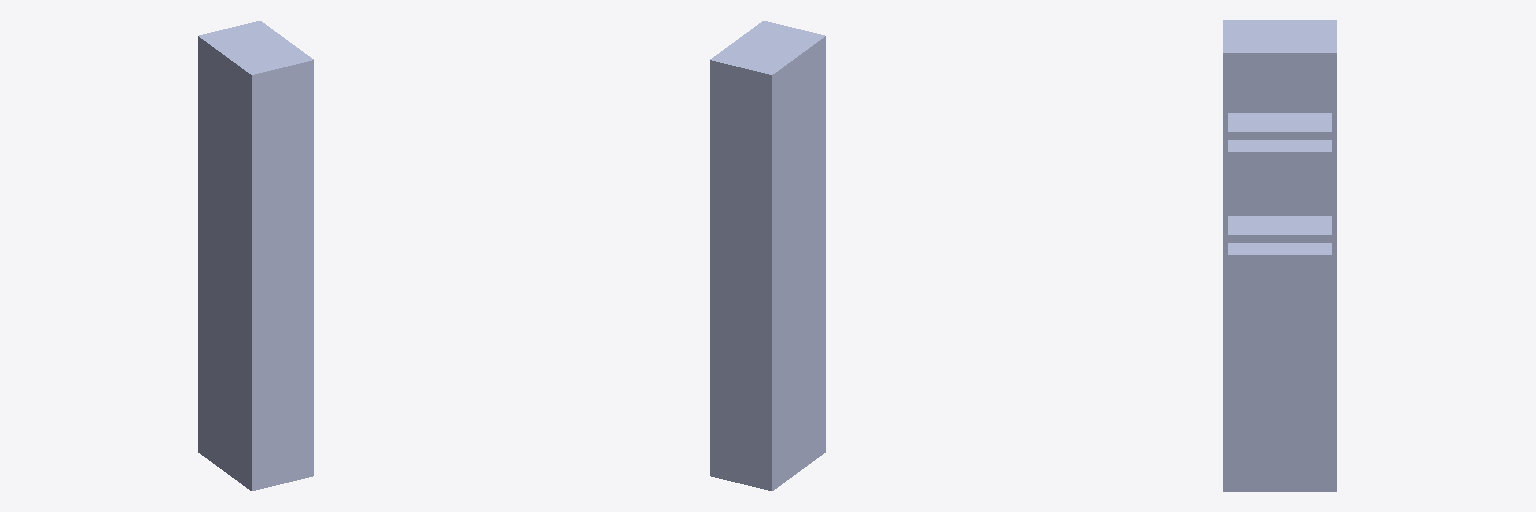
robot.urdf — cabinet1215:
<?xml version="1.0" encoding="utf-8"?>
<!-- This URDF was automatically created by SolidWorks to URDF Exporter! Originally created by [author] ([email redacted]) 
     Commit Version: 1.5.1-0-g916b5db  Build Version: 1.5.7152.31018
     For more information, please see http://wiki.ros.org/sw_urdf_exporter -->
<robot
  name="cabinet1215">
  <link
    name="cabinet1215">
    <inertial>
      <origin
        xyz="0.12199 2.0264E-17 -0.67033"
        rpy="0 0 0" />
      <mass
        value="101.08" />
      <inertia
        ixx="1.8891"
        ixy="-0.3545"
        ixz="-1.001E-15"
        iyy="16.426"
        iyz="-4.2748E-17"
        izz="15.679" />
    </inertial>
    <visual>
      <origin
        xyz="0 0 0"
        rpy="1.5707963267949 0 1.5707963267949" />
      <geometry>
        <mesh
          filename="package://ur_description/meshes/cabinet/cabinet1215.STL" />
      </geometry>
      <material
        name="">
        <color
          rgba="0.79216 0.81961 0.93333 1" />
        <texture
          filename="package://ur_description/textures/" />
      </material>
    </visual>
    <collision>
      <origin
        xyz="0 0 0"
        rpy="1.5707963267949 0 1.5707963267949" />
      <geometry>
        <mesh
          filename="package://ur_description/meshes/cabinet/cabinet1215.STL" />
      </geometry>
    </collision>
  </link>
</robot>

--- Facts derived from the render (not from the file) ---
Views: 3 orthographic renders of the robot side by side, from view 1: azimuth 30°, elevation 25°; view 2: azimuth 150°, elevation 25°; view 3: azimuth 270°, elevation 25°.
Model cabinet1215 with 1 links and 0 joints (none), rooted at cabinet1215, posed all joints at 0.
Visible links, largest first — view 1: cabinet1215; view 2: cabinet1215; view 3: cabinet1215.
Link boxes in pixels (x1,y1,x2,y2): cabinet1215: (198,21,313,490); cabinet1215: (710,21,825,490); cabinet1215: (1223,20,1336,491).
Size in the robot's own frame: 0.255 by 0.38 by 1.62 metres.
Meshes: 1 distinct files referenced, 1 mesh visuals loaded (1 binary STL).
